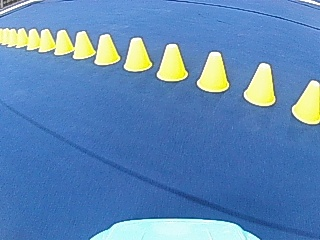cone: (197, 49, 230, 93), (244, 61, 276, 105), (291, 79, 320, 124), (156, 41, 188, 81), (124, 36, 153, 71), (94, 32, 121, 65), (73, 30, 95, 59), (54, 29, 73, 55), (38, 28, 54, 52), (26, 28, 39, 49), (16, 28, 28, 47), (6, 28, 16, 45)
